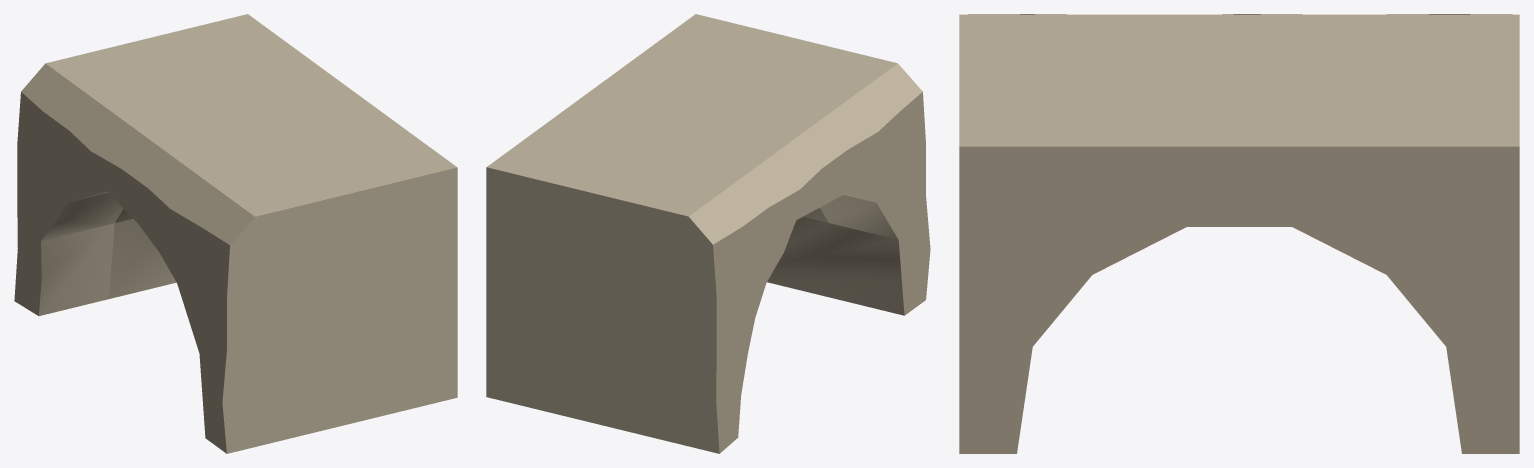
The model's file is выход за матрицу.FBX.
3 renders of one model, left to right at view 1: azimuth 30°, elevation 25°; view 2: azimuth 150°, elevation 25°; view 3: azimuth 270°, elevation 25°, orthographic. The views are drawn at different scales.
Parts seen in each view (by area): view 1: Box061; view 2: Box061; view 3: Box061.
Boxes of the visible parts, x1,y1,x2,y2 form: Box061: (14,14,457,453); Box061: (486,14,930,453); Box061: (959,14,1519,453).
Size of the model in its own units: 65.47 by 62.89 by 100.
